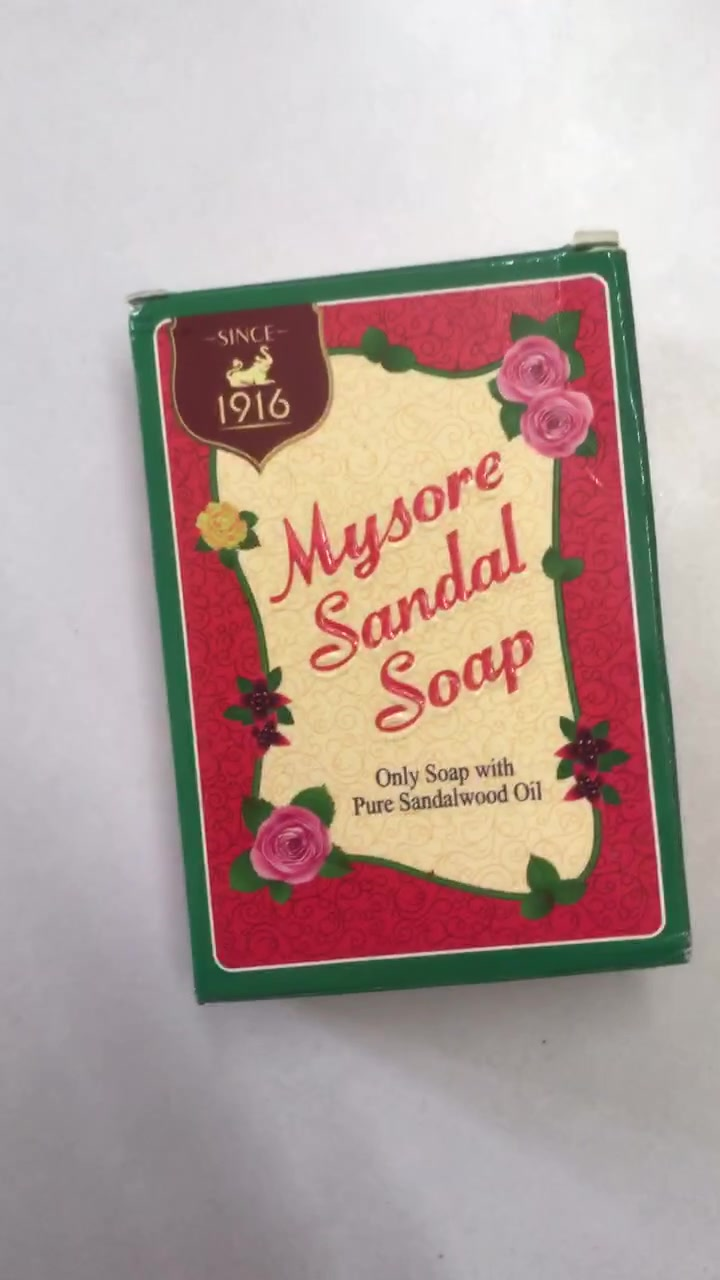mysore sandal soap: (134, 253, 689, 1002)
